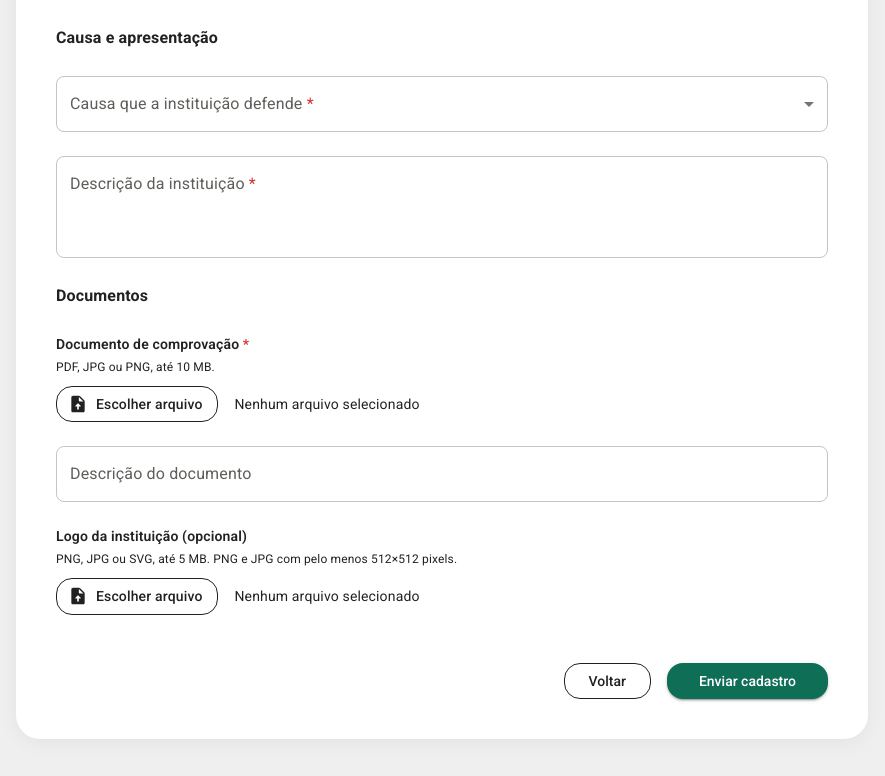
CadastroInstituicaoForm › mostra os erros dos campos obrigatórios e não envia o cadastro
(page scrolled)
Click the button "Enviar cadastro". click: (747, 681)
box: [667, 663, 828, 699]
(page scrolled)
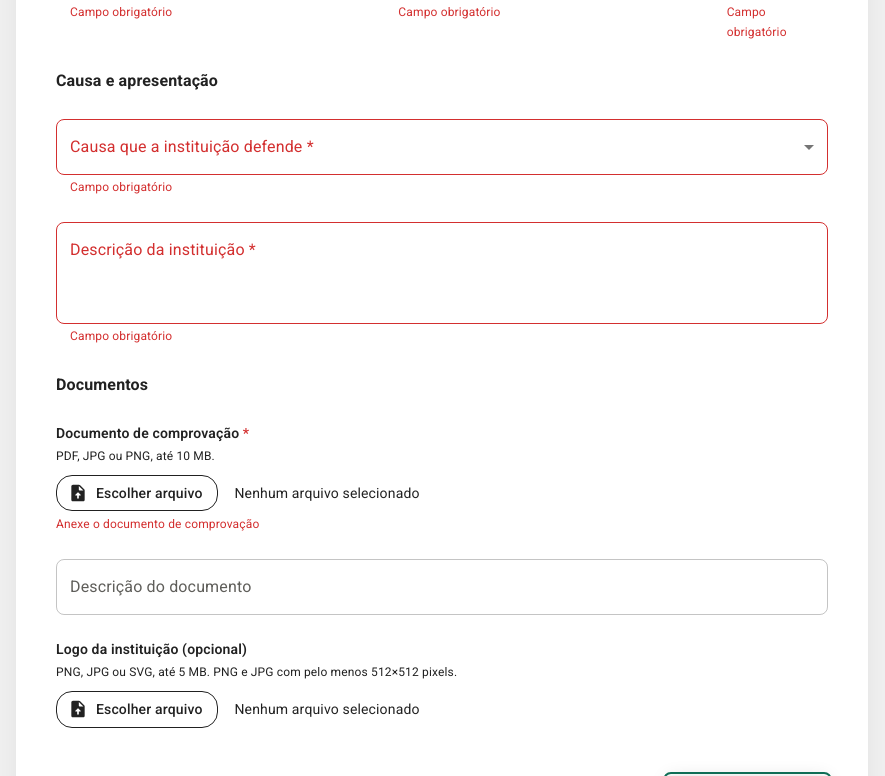
Expected: the text "Anexe o documento de comprovação" is shown, [56, 517, 259, 531]
